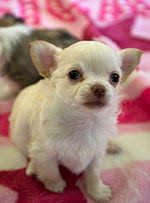chihuahua: (7, 28, 147, 203)
